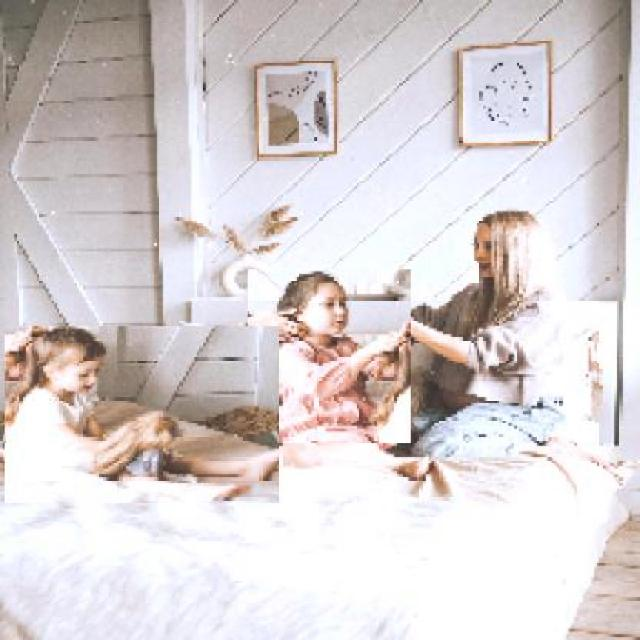child: (3, 326, 280, 505), (246, 269, 411, 445)
